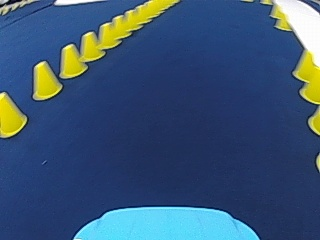cone: (290, 41, 319, 99), (31, 59, 62, 99), (0, 92, 27, 136), (58, 42, 86, 77), (78, 30, 103, 60), (95, 20, 119, 49), (108, 15, 127, 40), (307, 104, 319, 136), (274, 11, 289, 30), (270, 2, 281, 18)
